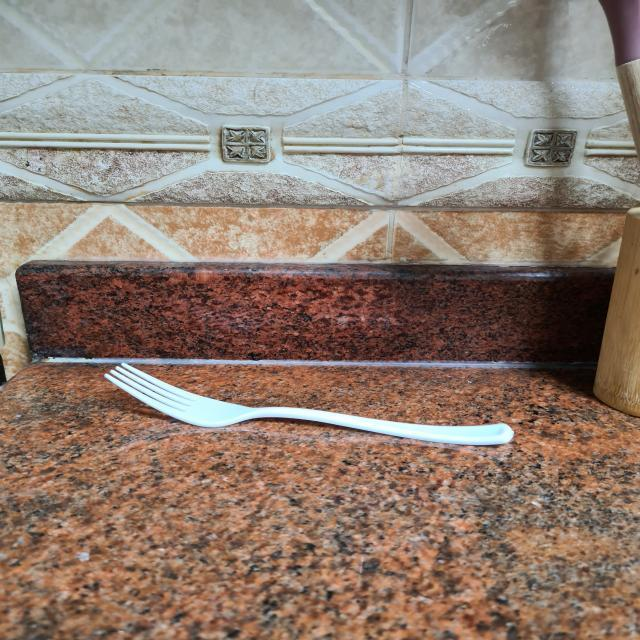plastic utensil: (109, 356, 516, 448)
